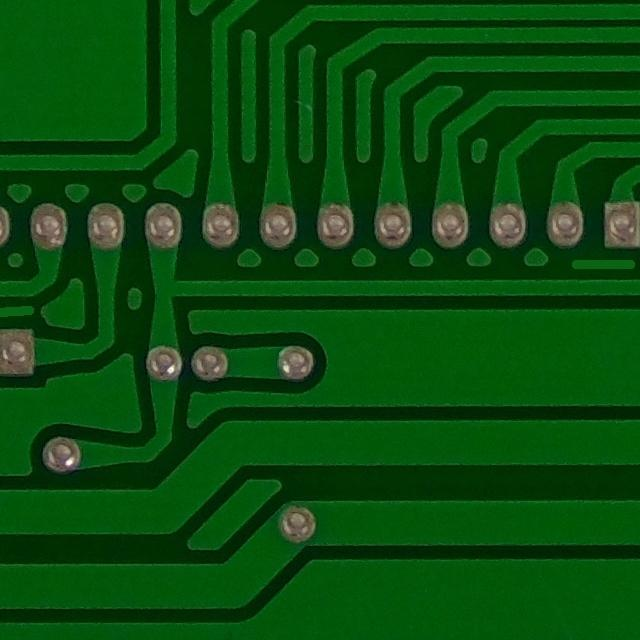spurious_copper: (557, 247, 640, 280), (0, 295, 40, 327)
